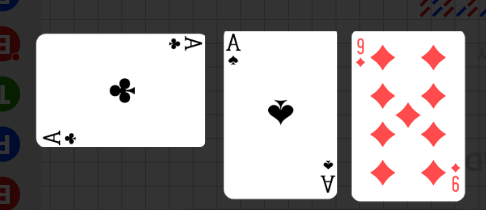9D: (450, 161, 461, 193)
AC: (165, 36, 202, 54), (41, 128, 79, 145)
